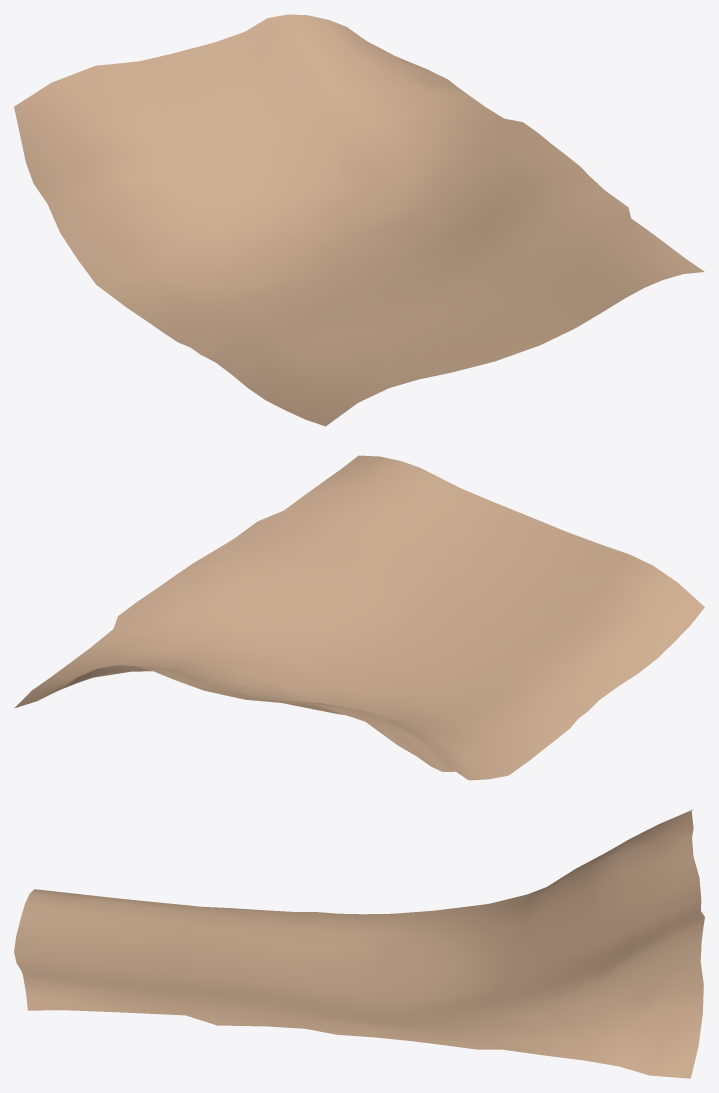
The picture shows the model from 3 angles, top to bottom: view 1: azimuth 30°, elevation 25°; view 2: azimuth 150°, elevation 25°; view 3: azimuth 270°, elevation 25°; orthographic projection. The views are drawn at different scales.
Parts seen in each view (by area): view 1: 右侧腘筋膜; view 2: 右侧腘筋膜; view 3: 右侧腘筋膜.
Part boxes in pixels (<box>): 右侧腘筋膜: <box>14,14,704,426</box>; 右侧腘筋膜: <box>14,455,704,780</box>; 右侧腘筋膜: <box>14,809,704,1078</box>.
Bounding box in the file's own units: 0.1053 × 0.03 × 0.1426.
